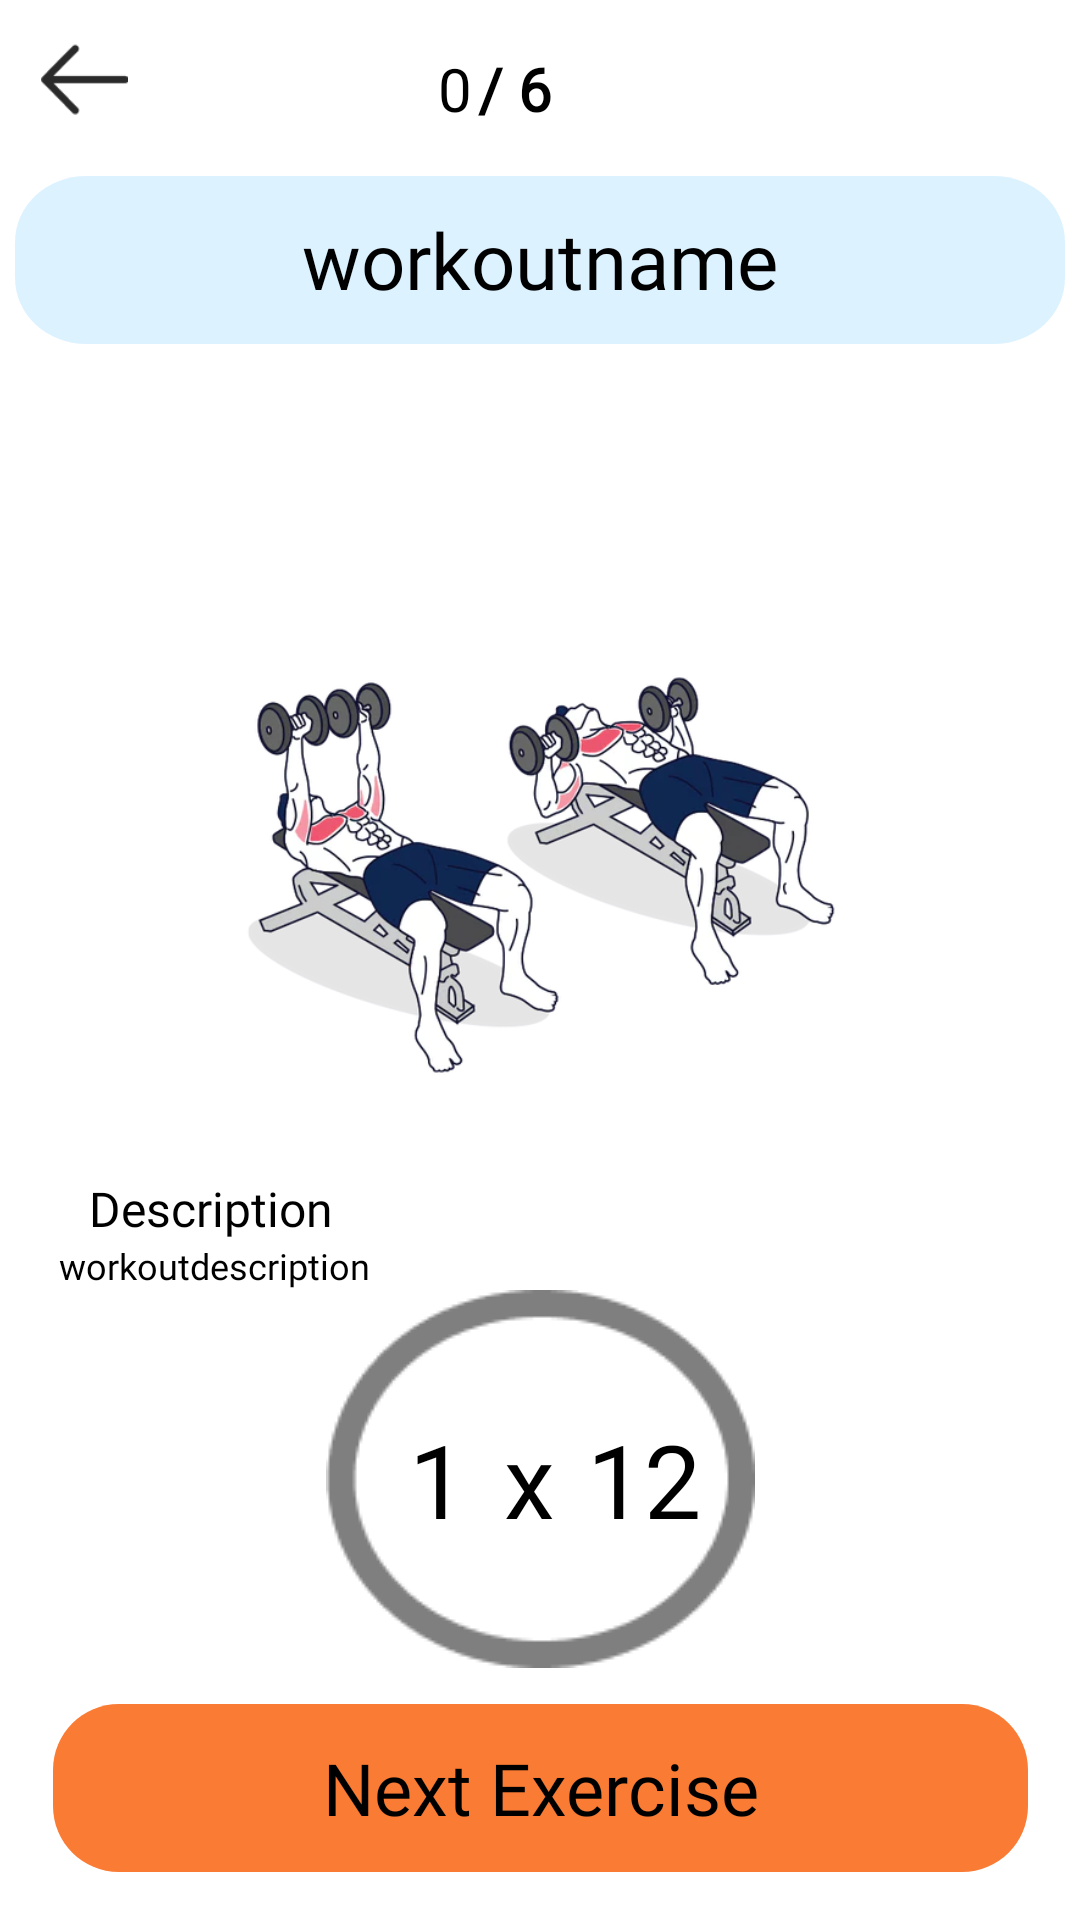

Where to tap for icons on this 1080*1920 app screen, as point (x, y):
arrow: point (84, 79)
